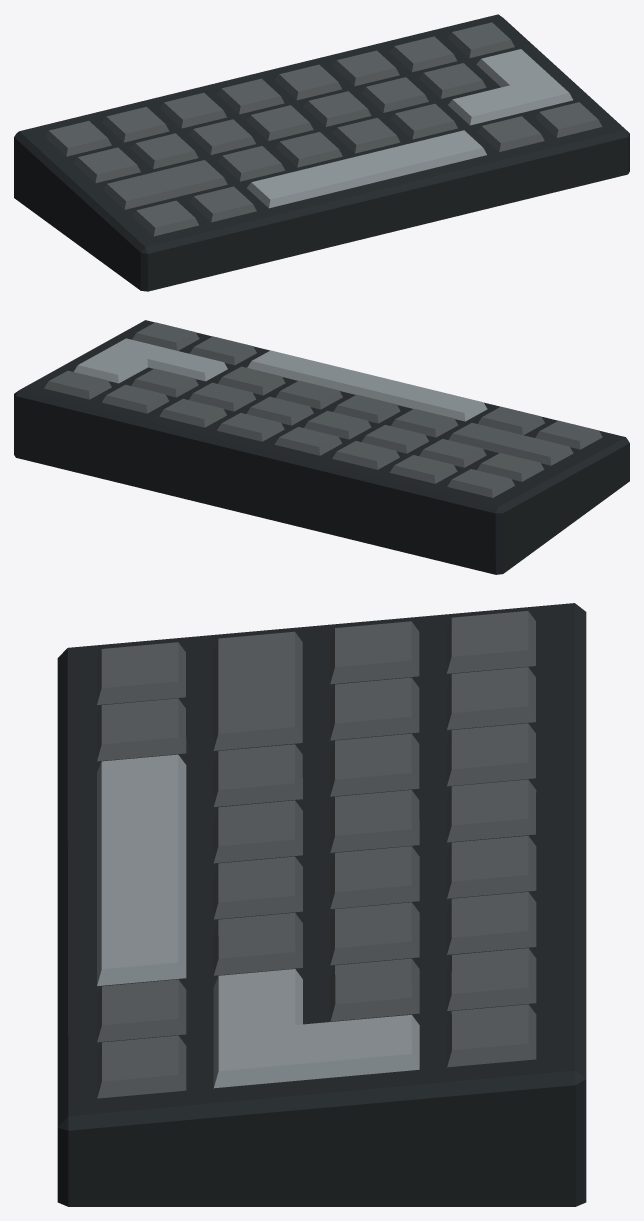
The model's file is keyboard.glb.
The picture shows the model from 3 angles, top to bottom: view 1: azimuth 30°, elevation 25°; view 2: azimuth 150°, elevation 25°; view 3: azimuth 270°, elevation 25°; orthographic projection. The views are drawn at different scales.
Parts seen in each view (by area): view 1: Keyboard_01; view 2: Keyboard_01; view 3: Keyboard_01.
Boxes of the visible parts, <box> form: Keyboard_01: <box>14,14,629,291</box>; Keyboard_01: <box>14,320,629,574</box>; Keyboard_01: <box>57,603,586,1206</box>.
Size of the model in its own units: 0.5058 by 0.0697 by 0.2366.
1 material, 1 textured.
